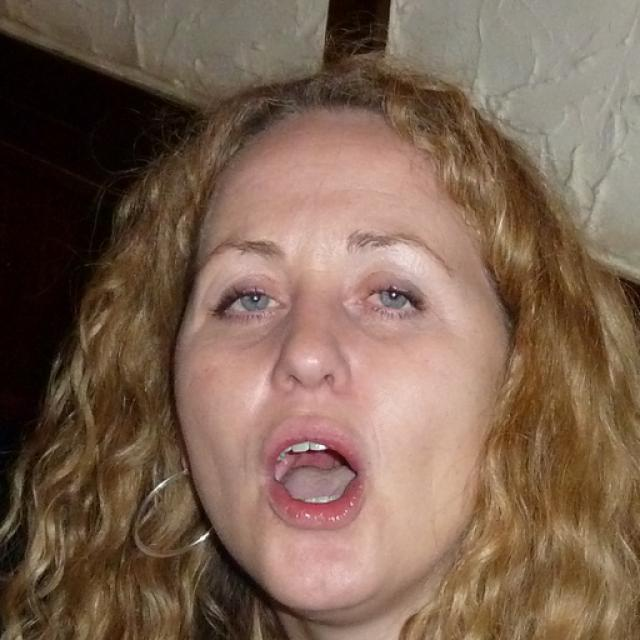surprise: (167, 97, 508, 618)
